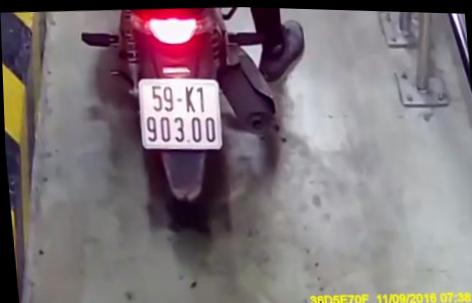LP: (136, 72, 223, 154)
